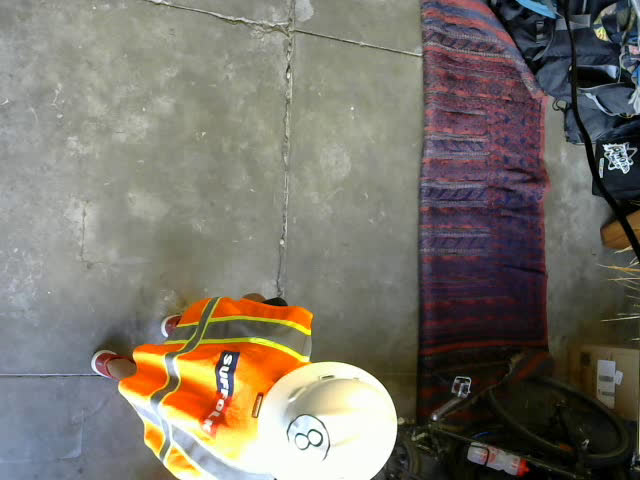eight: (285, 413, 331, 470)
